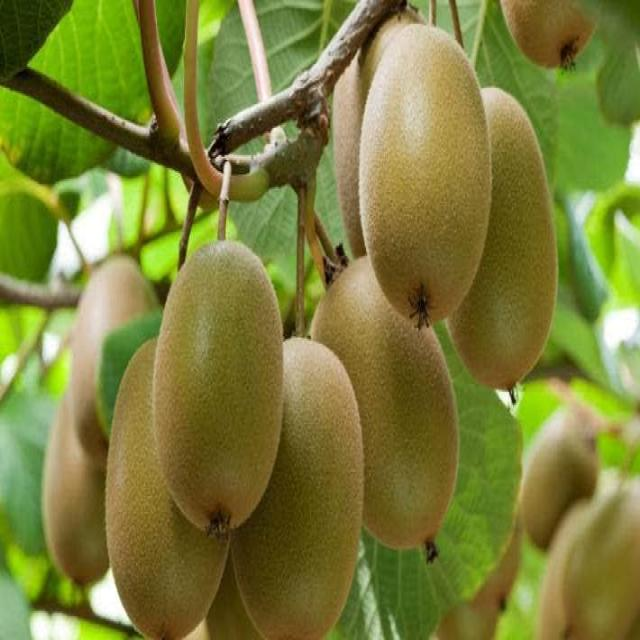kiwi: (309, 256, 463, 557), (229, 330, 369, 640), (362, 24, 498, 333), (153, 243, 290, 536), (445, 78, 563, 411), (105, 337, 232, 640), (69, 252, 165, 475), (40, 375, 120, 590), (323, 7, 380, 262), (559, 471, 640, 640), (518, 406, 607, 548), (490, 1, 607, 78), (198, 545, 269, 640), (442, 553, 516, 640)
